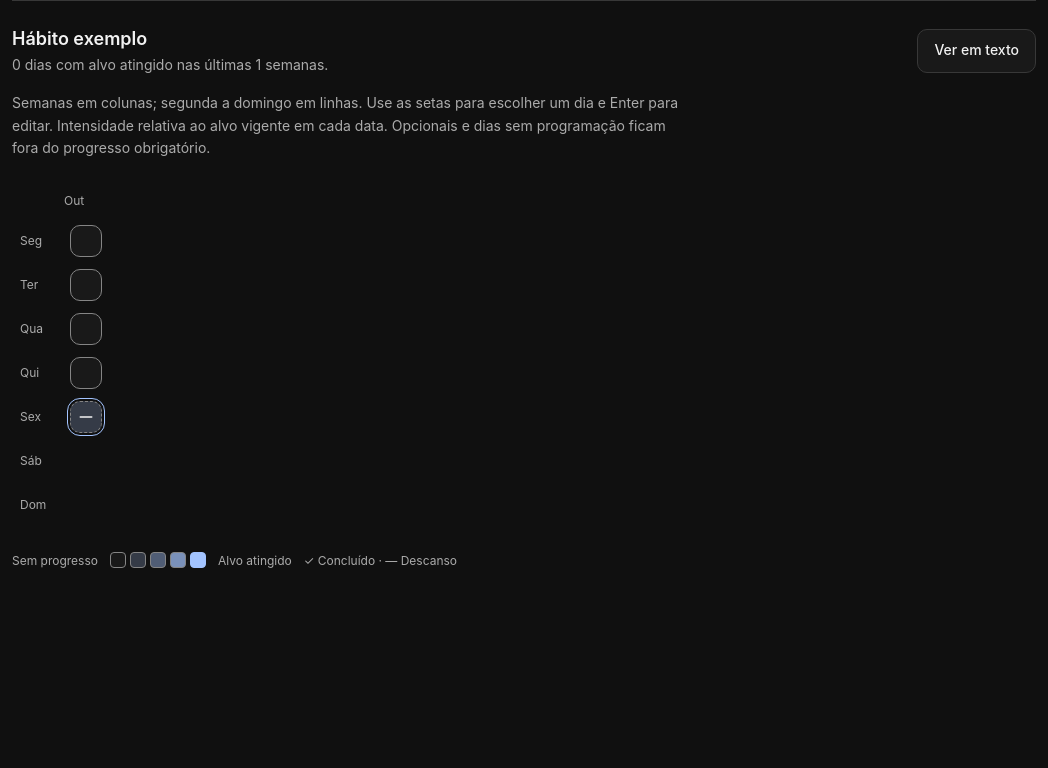
it: mantém o valor parcial de um opcional visível no histórico textual
Click the button "Ver em texto" at (977, 51), box [917,29,1036,73]
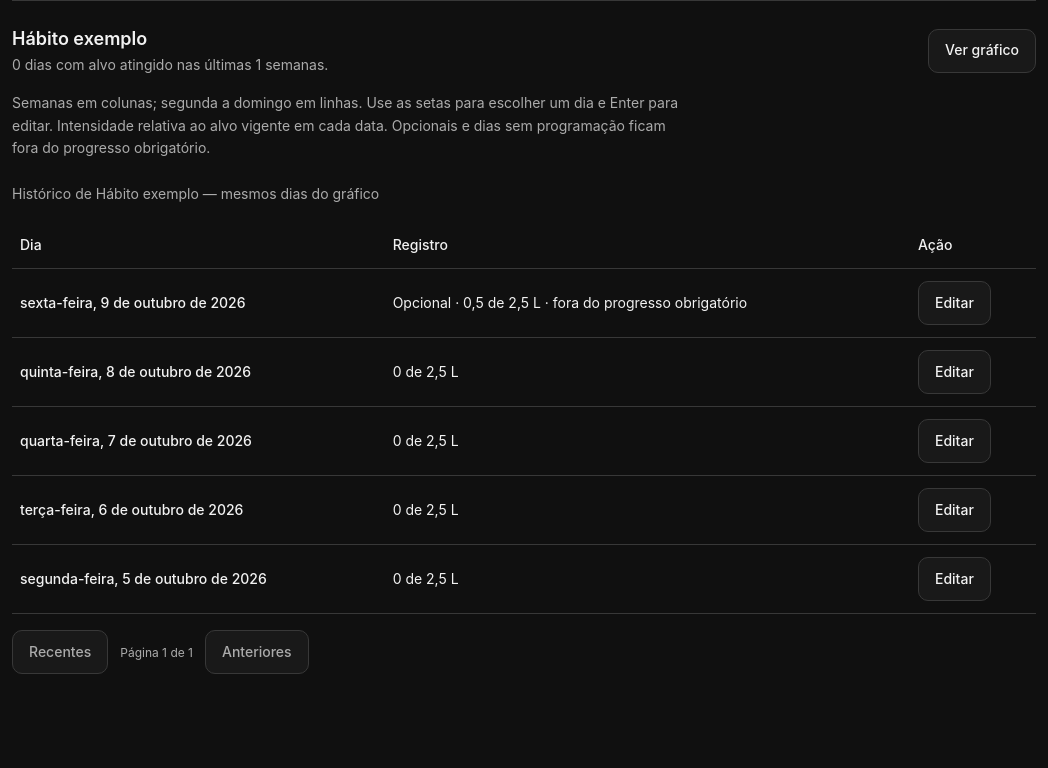
Expected: the text "Opcional · 0,5 de 2,5 L · fora do progresso obrigatório" is shown, [385,269,910,338]
